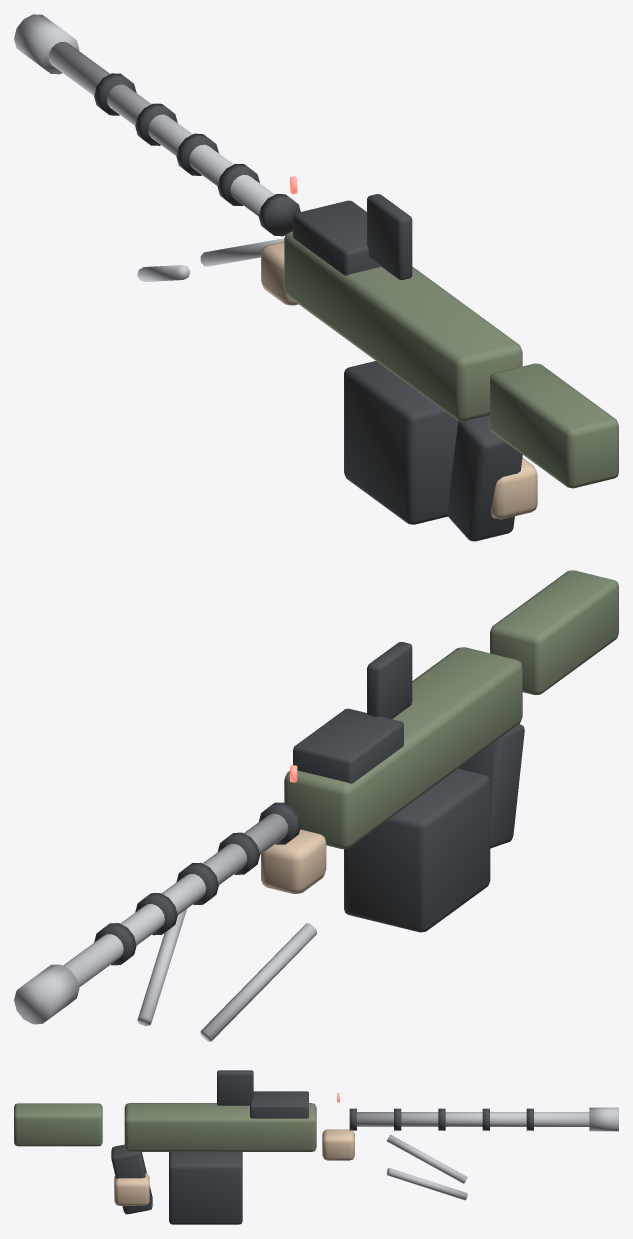
The model's file is lmg.glb.
3 renders of one model, top to bottom at view 1: azimuth 30°, elevation 25°; view 2: azimuth 150°, elevation 25°; view 3: azimuth 270°, elevation 25°, orthographic. The views are drawn at different scales.
Parts seen in each view (by area): view 1: WeaponMesh, Mag; view 2: WeaponMesh, Mag; view 3: WeaponMesh, Mag.
Boxes of the visible parts, bbox=[...] form: WeaponMesh: bbox=[14, 14, 618, 541]; Mag: bbox=[344, 361, 458, 524]; WeaponMesh: bbox=[14, 570, 618, 1041]; Mag: bbox=[344, 768, 490, 932]; WeaponMesh: bbox=[14, 1070, 618, 1214]; Mag: bbox=[169, 1152, 242, 1224].
Size of the model in its own units: 0.1188 by 0.215 by 0.82.
